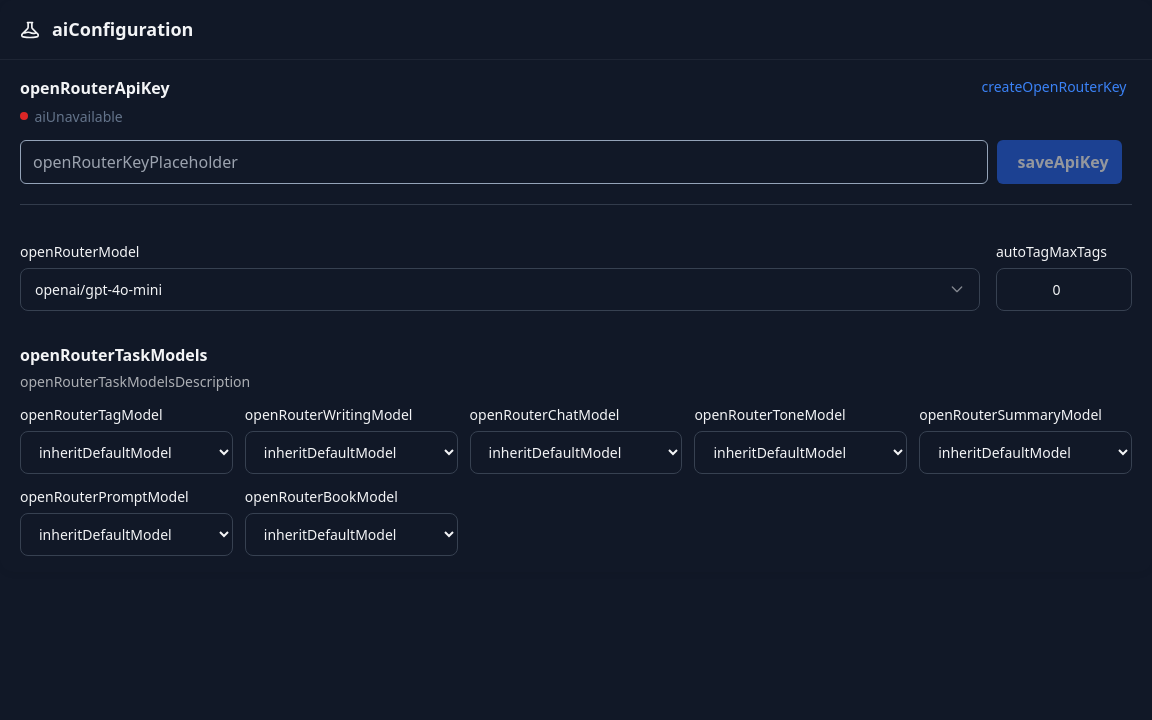
AISection › filters models by search text
Expected: the text "openai/gpt-4o-mini" is shown, left=35, top=280, right=162, bottom=299
Step 1. Click the button "openai/gpt-4o-mini" → {"x": 99, "y": 289}, box left=20, top=268, right=980, bottom=311
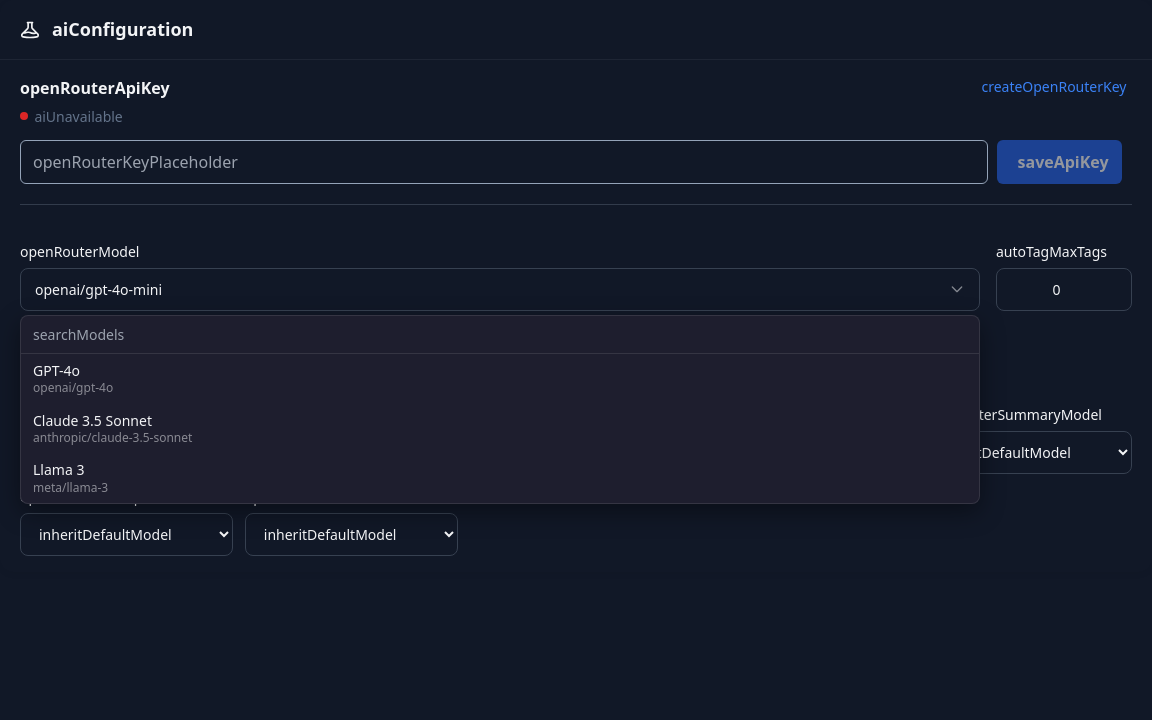
Step 2. Type "claude" into the field with placeholder "searchModels" → {"x": 500, "y": 335}, box left=21, top=316, right=979, bottom=354
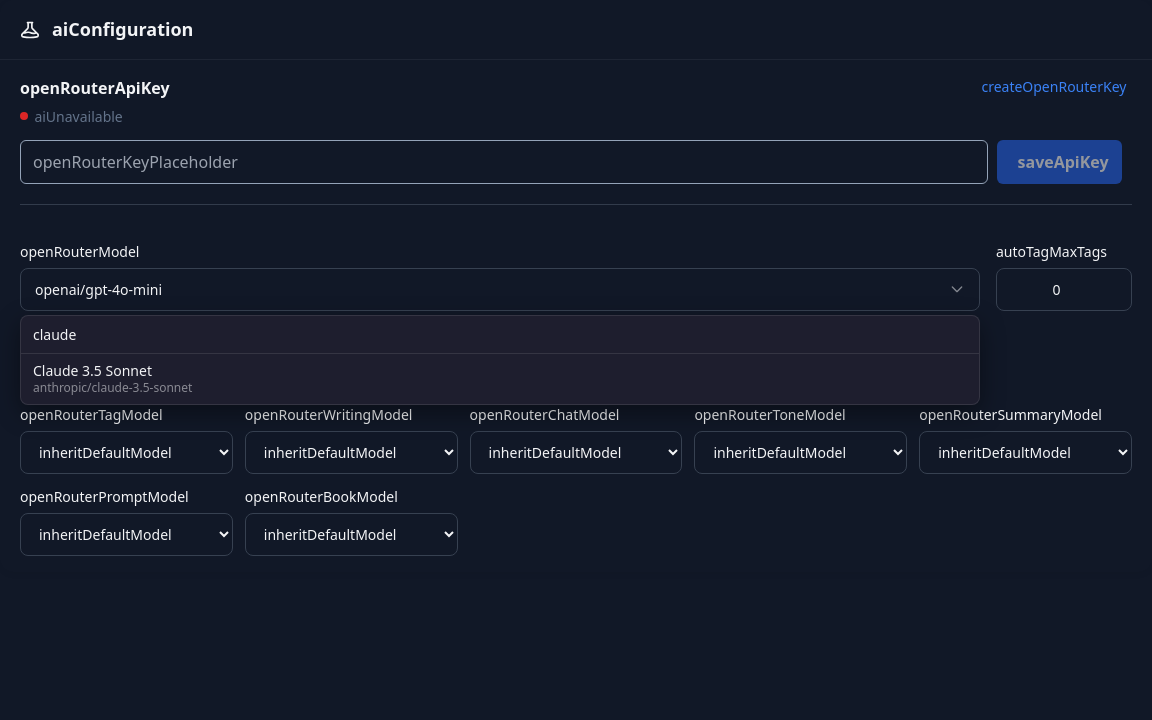
Expected: the text "Claude 3.5 Sonnet" is shown, left=33, top=362, right=152, bottom=380
Expected: the button "Llama 3" is gone
